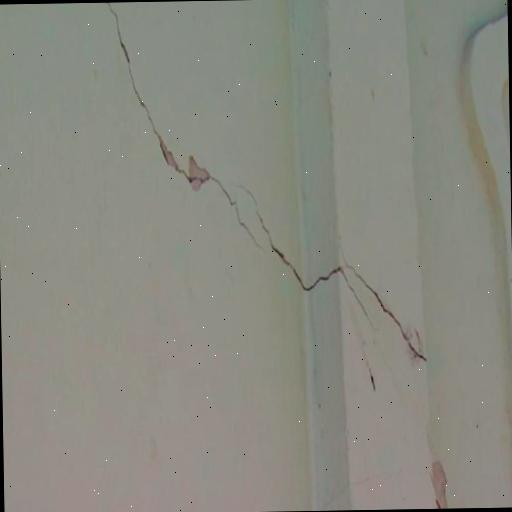spalling: (104, 10, 261, 256), (263, 203, 427, 370)
